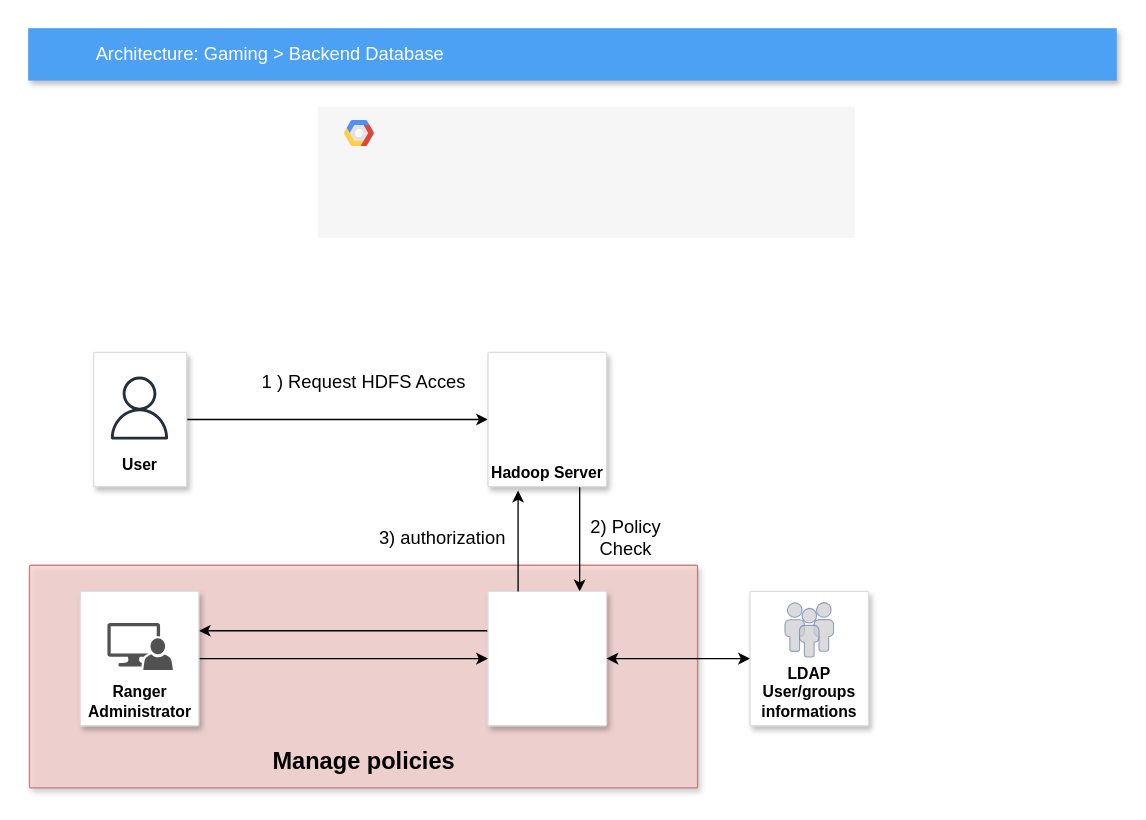
Some shapes in this 1146 by 820 pixel diagram are drawn without their labels. The centre of each missing label's shape, as x and y in pixels:
Google Cloud Platform: (585,171)
Ranger: (547,660)
